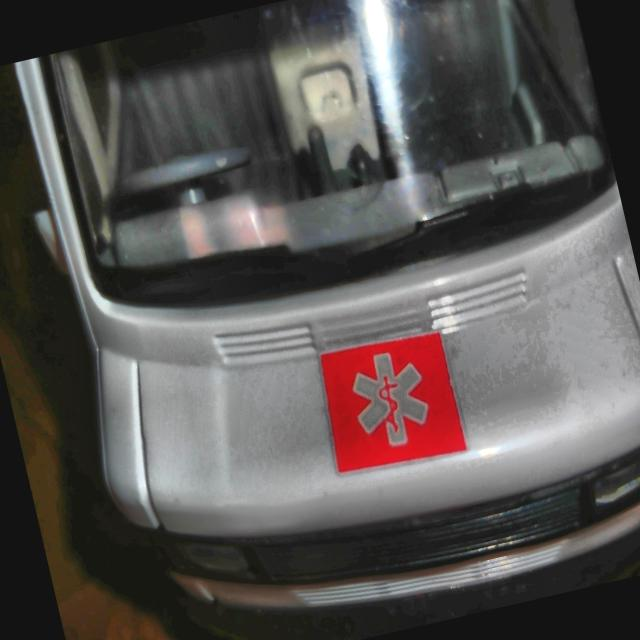Ambulance: (10, 0, 640, 640), (311, 326, 467, 479)
